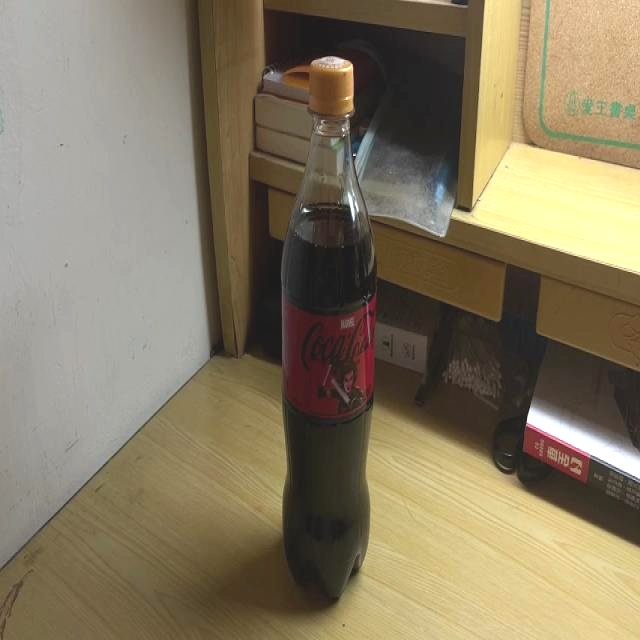Coca-Cola: (283, 57, 374, 605)
